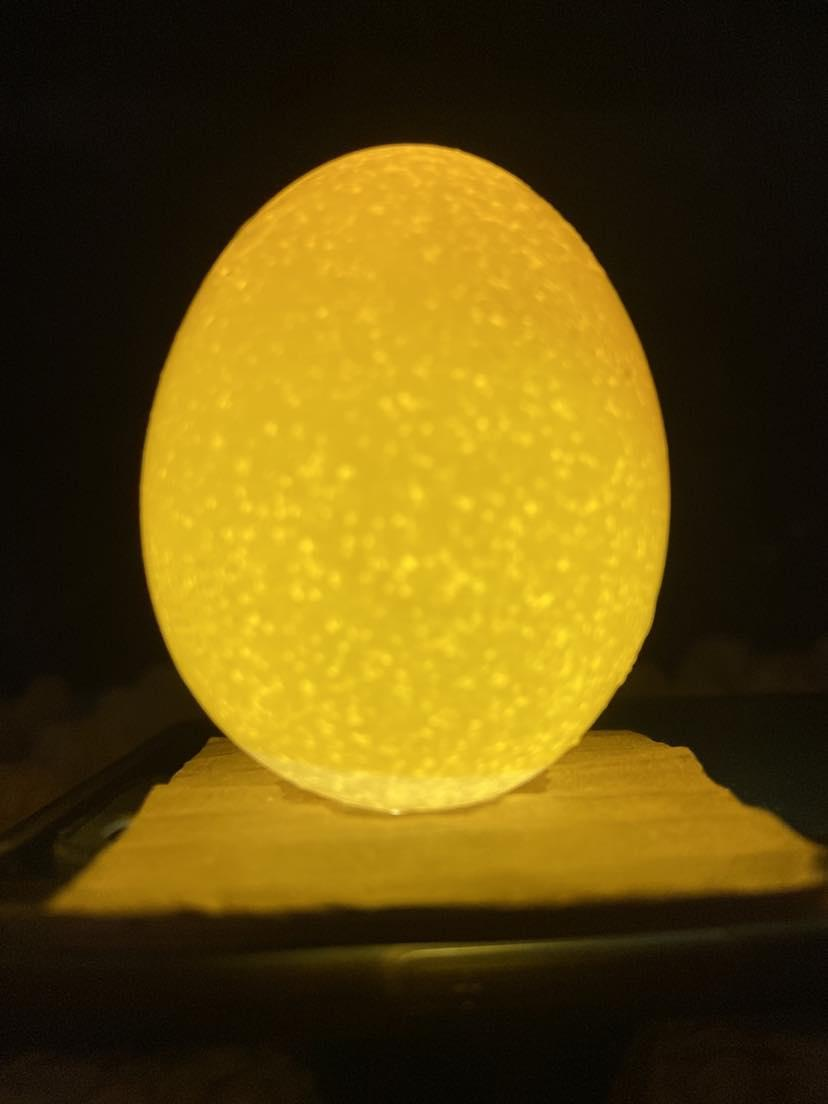A - Good: (128, 127, 697, 835)
